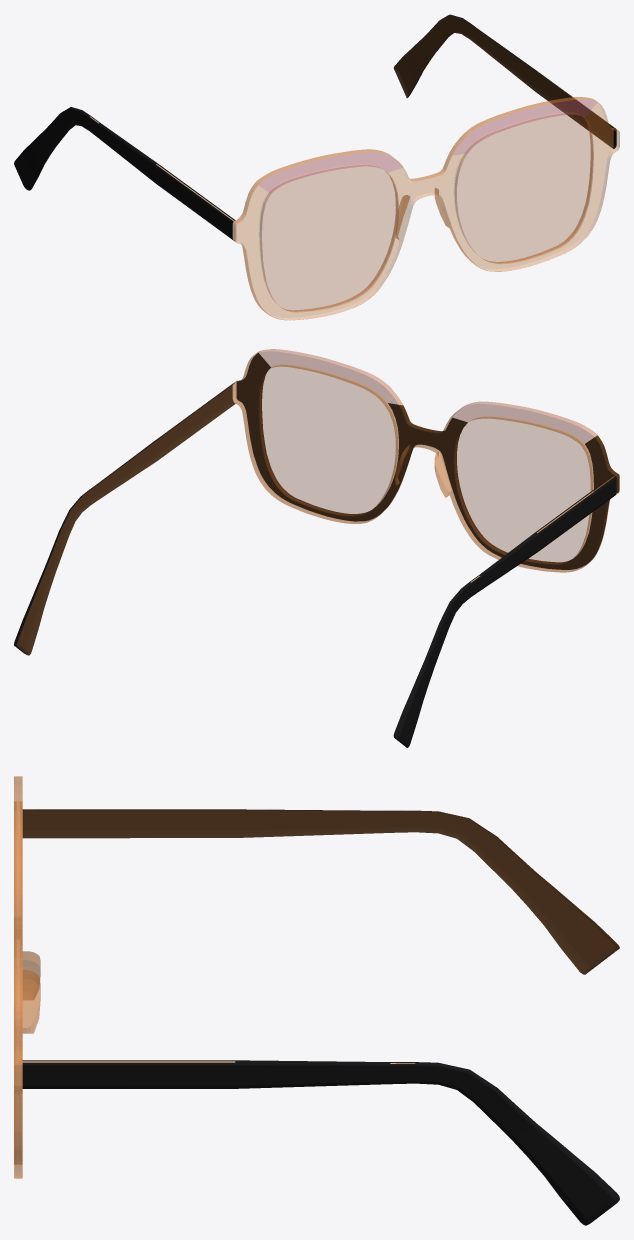
3 views of the same model, one above another, from view 1: azimuth 30°, elevation 25°; view 2: azimuth 150°, elevation 25°; view 3: azimuth 270°, elevation 25° (orthographic). The views are drawn at different scales.
Parts seen in each view (by area): view 1: glasses; view 2: glasses; view 3: glasses.
Part boxes in pixels (left/top/right/bottom): glasses: left=14, top=14, right=619, bottom=320; glasses: left=14, top=349, right=619, bottom=747; glasses: left=14, top=776, right=619, bottom=1225.
Bounding box in the file's own units: 14.03 × 5.74 × 14.04.
